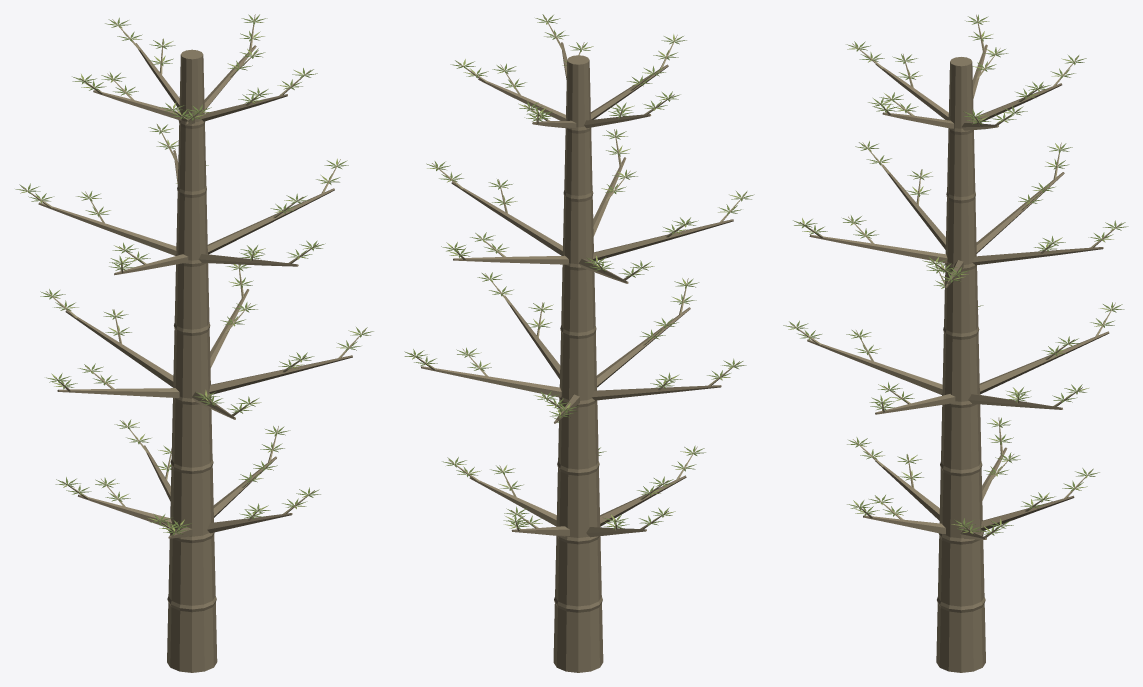
The picture shows the model from 3 angles, left to right: view 1: azimuth 30°, elevation 25°; view 2: azimuth 150°, elevation 25°; view 3: azimuth 270°, elevation 25°; orthographic projection.
Parts seen in each view (by area): view 1: quiet-barked-eight-node-woody-sphenopsid, five-hundred-sixty-small-lanceolate-whorled-leaves; view 2: quiet-barked-eight-node-woody-sphenopsid, five-hundred-sixty-small-lanceolate-whorled-leaves; view 3: quiet-barked-eight-node-woody-sphenopsid, five-hundred-sixty-small-lanceolate-whorled-leaves.
Boxes of the visible parts, x1,y1,x2,y2 form: quiet-barked-eight-node-woody-sphenopsid: (22,14,366,672); five-hundred-sixty-small-lanceolate-whorled-leaves: (15,14,373,535); quiet-barked-eight-node-woody-sphenopsid: (410,14,746,672); five-hundred-sixty-small-lanceolate-whorled-leaves: (404,14,754,529); quiet-barked-eight-node-woody-sphenopsid: (790,14,1121,672); five-hundred-sixty-small-lanceolate-whorled-leaves: (783,14,1128,535).
Bounding box in the file's own units: 2.57 × 4.8 × 2.5.
